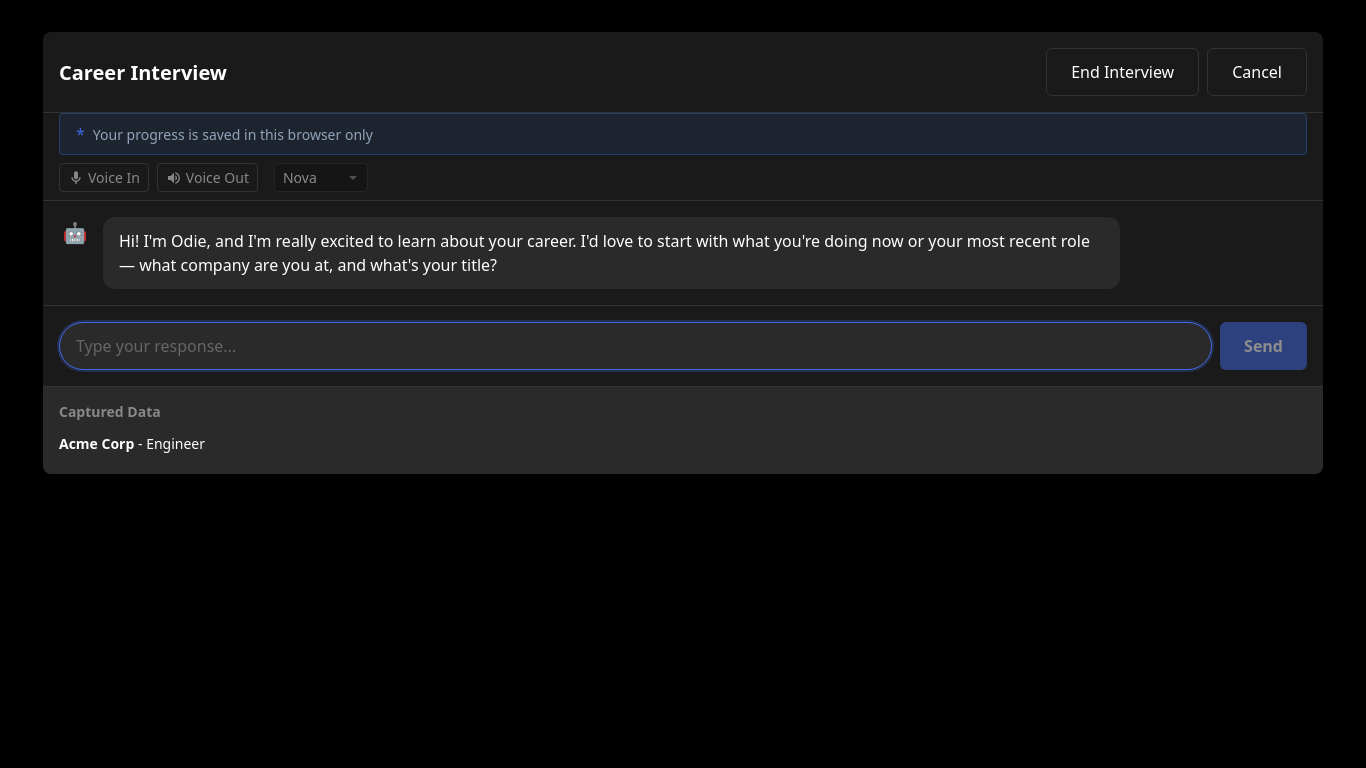
InterviewChat › extractedEntries › shows entry count in completion summary when entries exist
This screenshot has width=1366, height=768.
End interview to trigger completion summary
Click the button with test id "interview-end" at coordinates (1123, 72), box [1046, 48, 1199, 96]
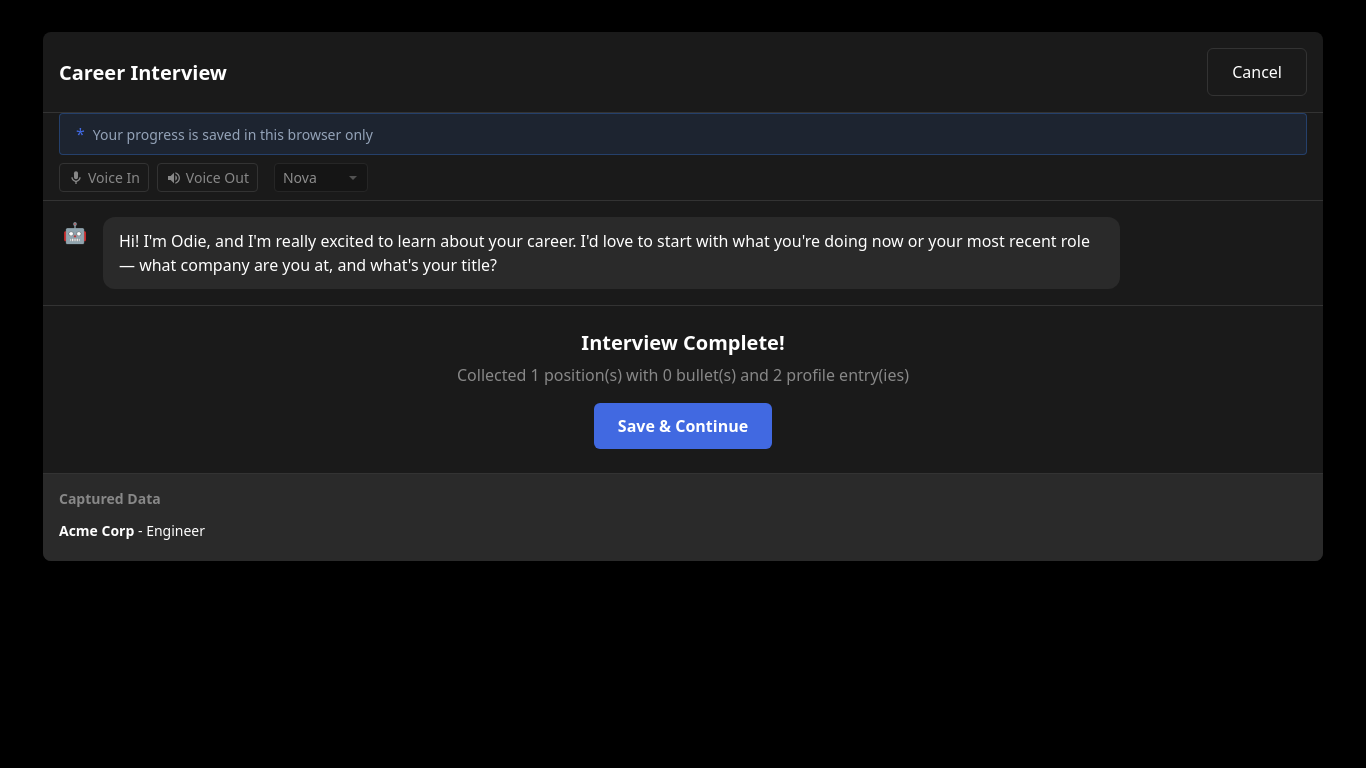
Expected: the element with test id "interview-complete" shows "2 profile entry(ies)", [43, 305, 1323, 473]
